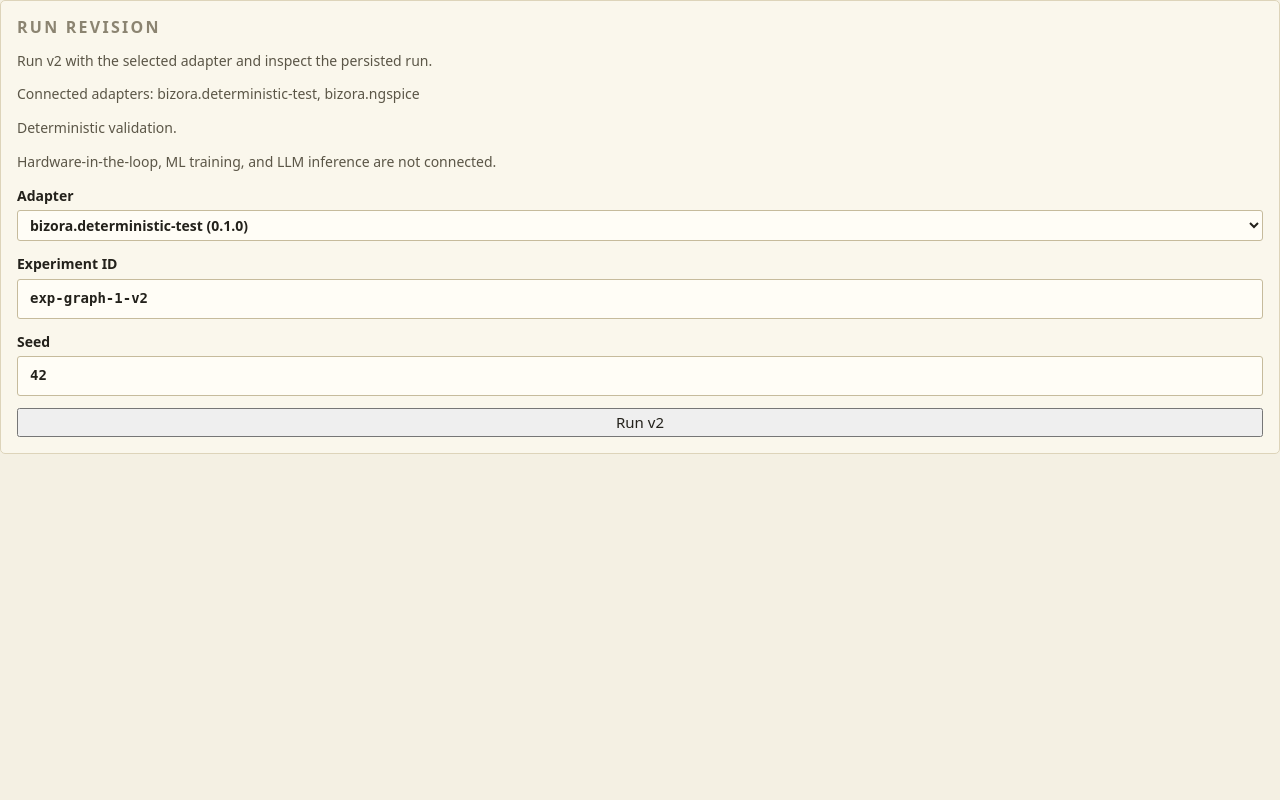
RunPanel › submits the selected adapter instead of the default
Select "bizora.ngspice (0.1.0)" in the dropdown labelled "Adapter" at [640, 226], box [17,210,1263,241]
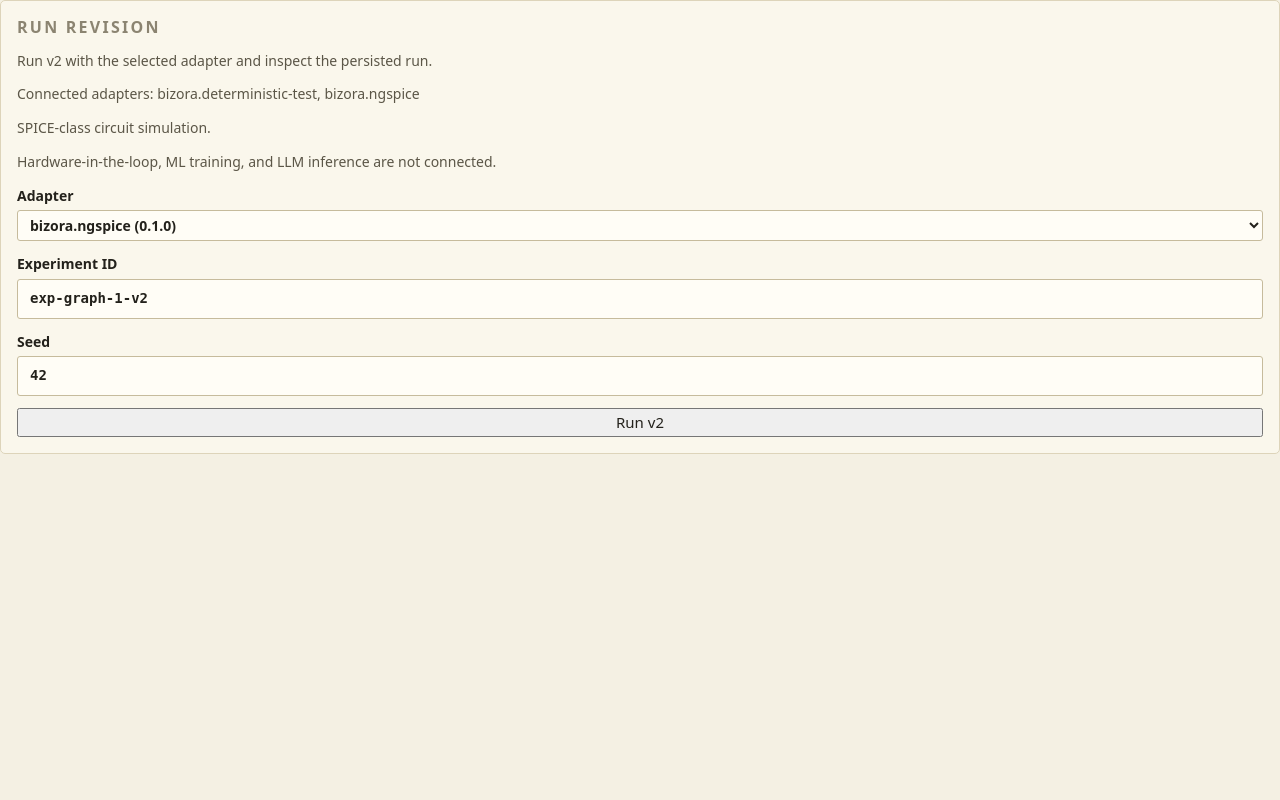
Click the button "Run v2" at [640, 423], box [17,408,1263,437]
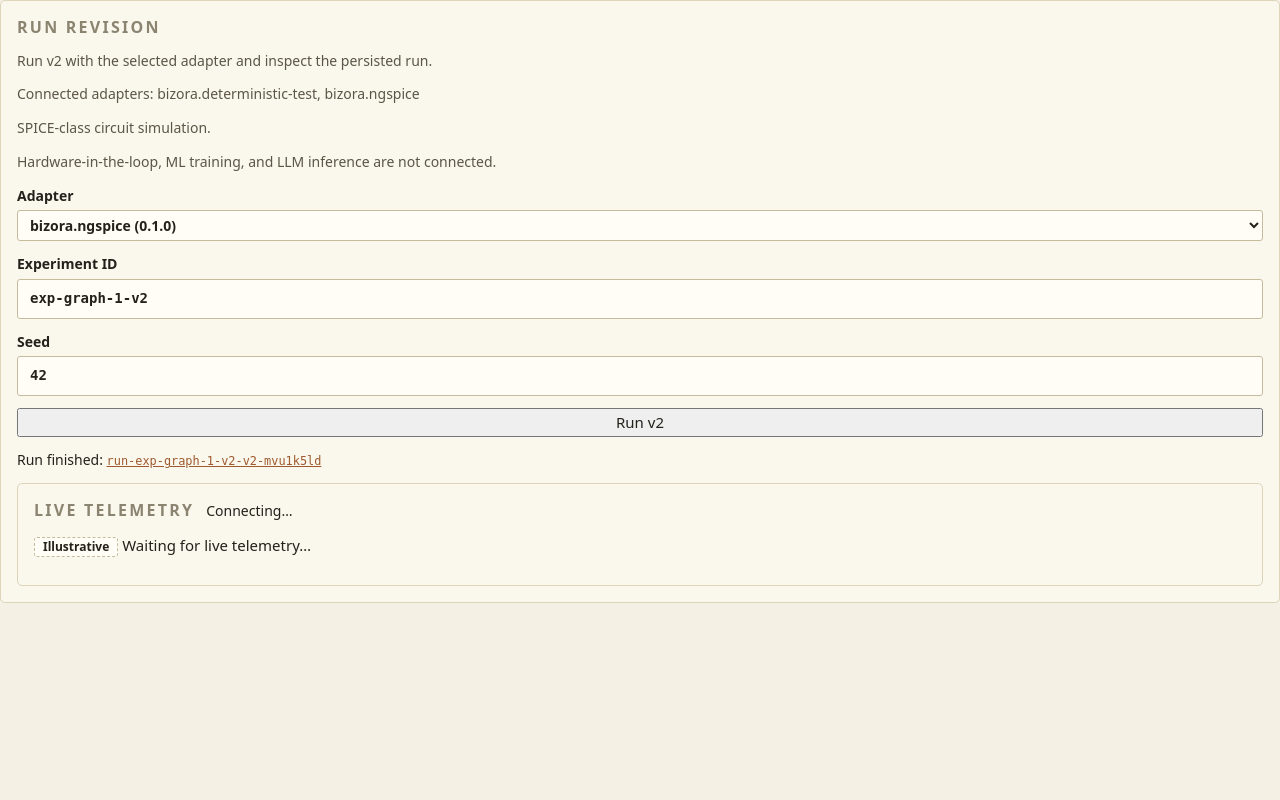
Now the text "Run finished:" is shown, box [17,450,103,469]
